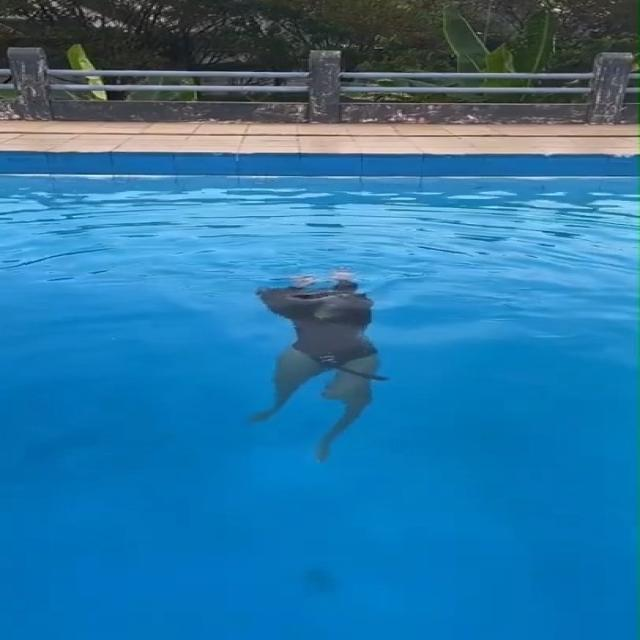Drowning: (246, 269, 392, 467)
